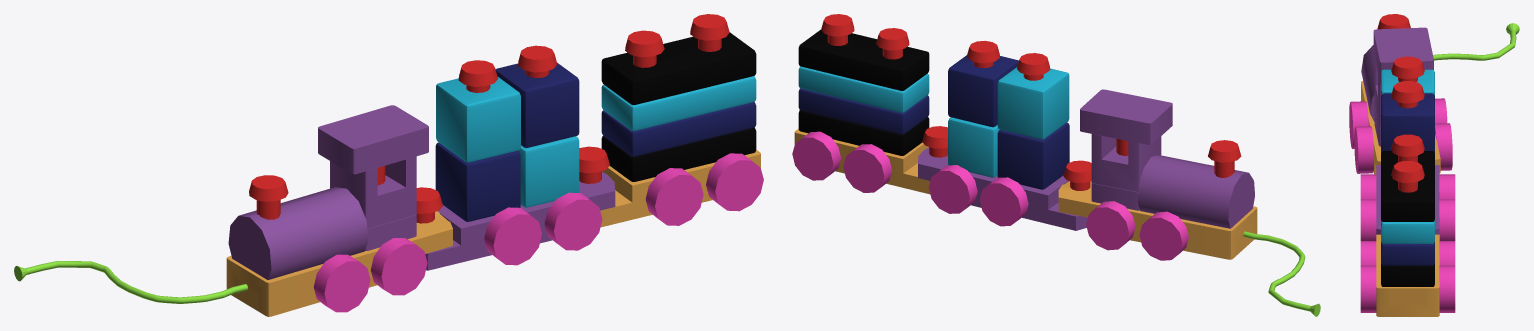
File: mesh_train.fbx
3 renders of one model, left to right at view 1: azimuth 30°, elevation 25°; view 2: azimuth 150°, elevation 25°; view 3: azimuth 270°, elevation 25°, orthographic. The views are drawn at different scales.
Parts seen in each view (by area): view 1: Cylinder013; view 2: Cylinder013; view 3: Cylinder013.
Part boxes in pixels (x1,y1,x2,y2): Cylinder013: (14,14,763,316); Cylinder013: (792,14,1320,316); Cylinder013: (1349,14,1519,316).
Size of the model in its own units: 40.83 by 10.6 by 10.77.
